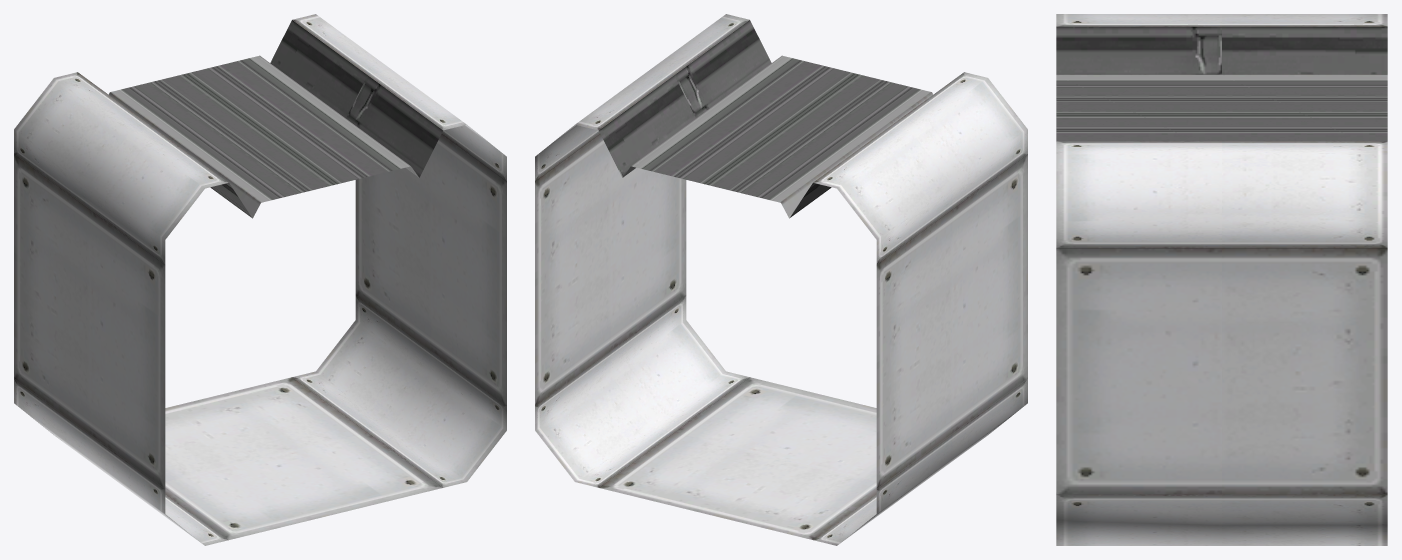
Rendered from GroundBrace_1x1capped.FBX.
3 views of the same model, side by side, from view 1: azimuth 30°, elevation 25°; view 2: azimuth 150°, elevation 25°; view 3: azimuth 270°, elevation 25° (orthographic). The views are drawn at different scales.
Parts seen in each view (by area): view 1: GroundBrace_1x1capped; view 2: GroundBrace_1x1capped; view 3: GroundBrace_1x1capped.
Boxes of the visible parts, x1,y1,x2,y2 form: GroundBrace_1x1capped: [14, 14, 506, 545]; GroundBrace_1x1capped: [535, 14, 1027, 545]; GroundBrace_1x1capped: [1056, 14, 1387, 545].
Size of the model in its own units: 1.3 by 1.3 by 1.
